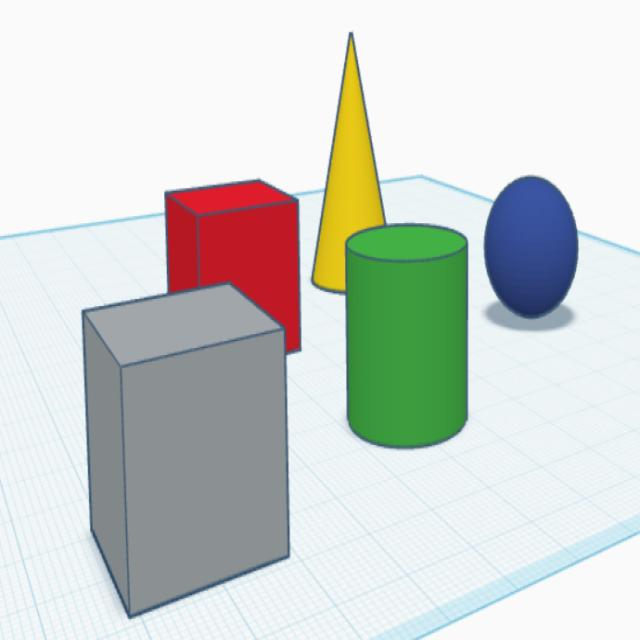cube: (80, 277, 292, 623)
sphere: (481, 173, 581, 324)
